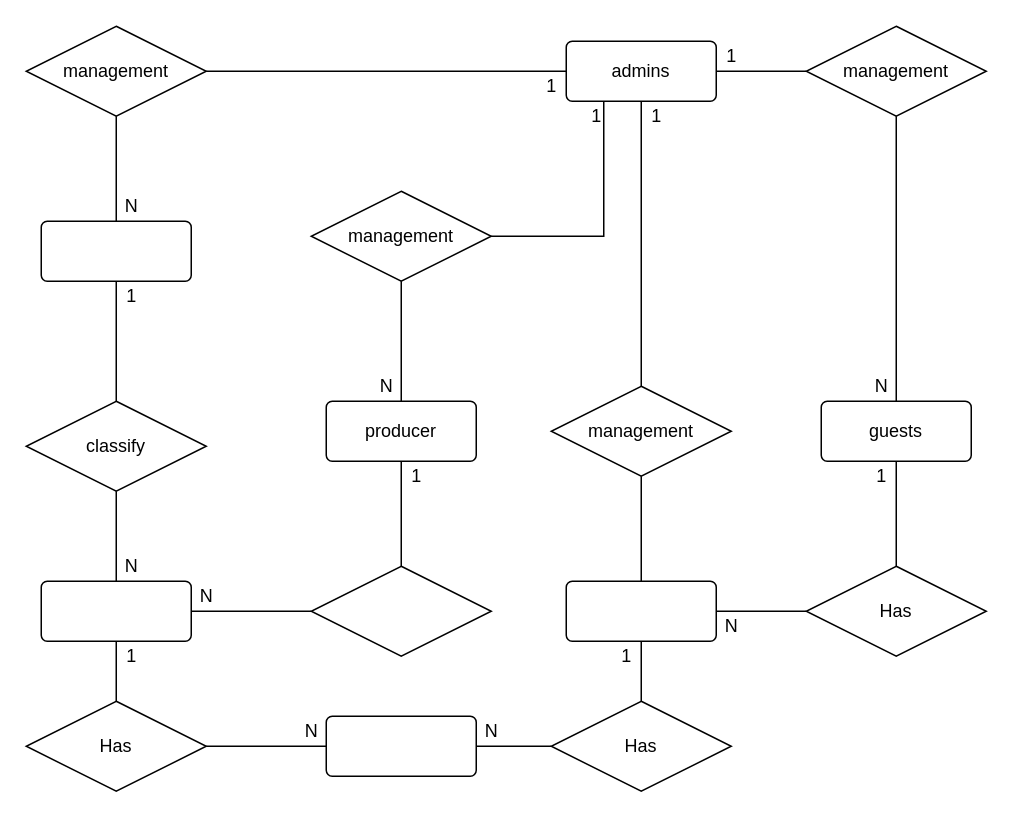
This 1013x818 diagram has some shape labels left out. The shapes that lost their labels are listed below. From the top down, each one's centre as x and y in pixels, then its label:
the point at 115,250: categories
the point at 115,610: products
the point at 400,610: provide
the point at 640,610: orders
the point at 400,745: order_detail
